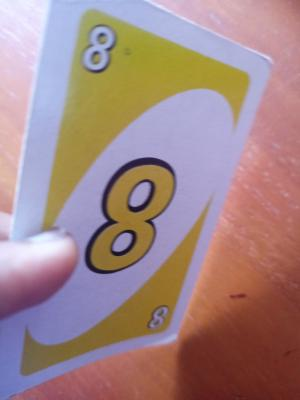num_8: (76, 156, 183, 294)
yellow: (66, 17, 157, 132)
